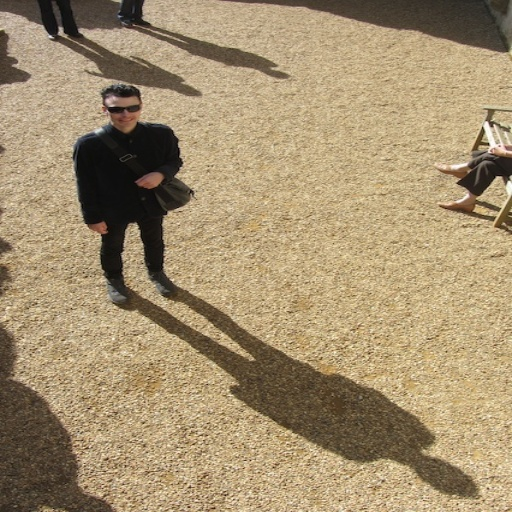hand: (132, 172, 157, 190), (85, 220, 108, 233), (491, 144, 510, 155), (487, 142, 502, 153)
